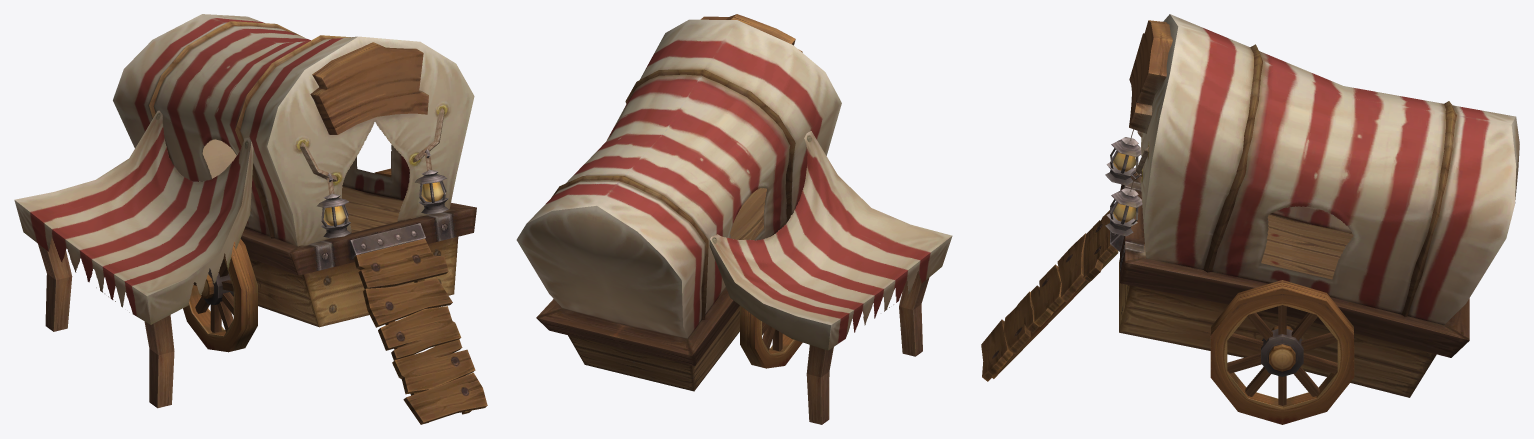
The model's file is Coach001.fbx.
3 renders of one model, left to right at view 1: azimuth 30°, elevation 25°; view 2: azimuth 150°, elevation 25°; view 3: azimuth 270°, elevation 25°, orthographic. The views are drawn at different scales.
Visible parts, largest first — view 1: Coach01; view 2: Coach01; view 3: Coach01.
Part boxes in pixels (<box>): Coach01: <box>14,14,487,424</box>; Coach01: <box>516,14,952,424</box>; Coach01: <box>981,14,1519,424</box>.
Size of the model in its own units: 5.66 by 5.26 by 7.45.
